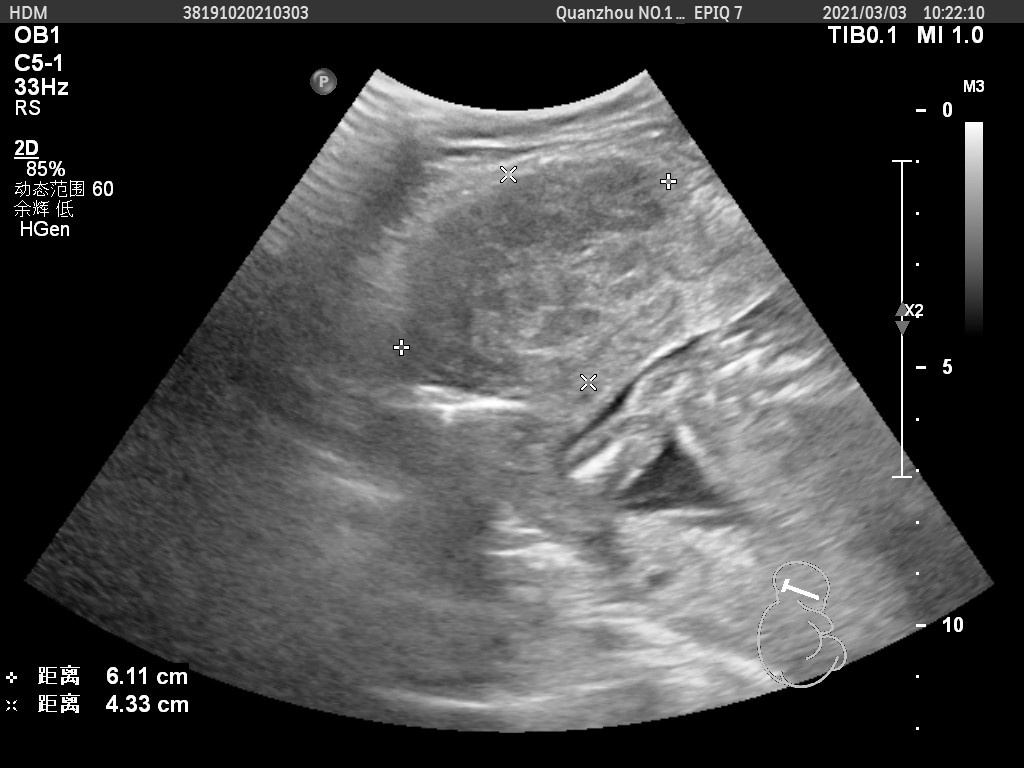肌瘤: (407, 172, 654, 371)
